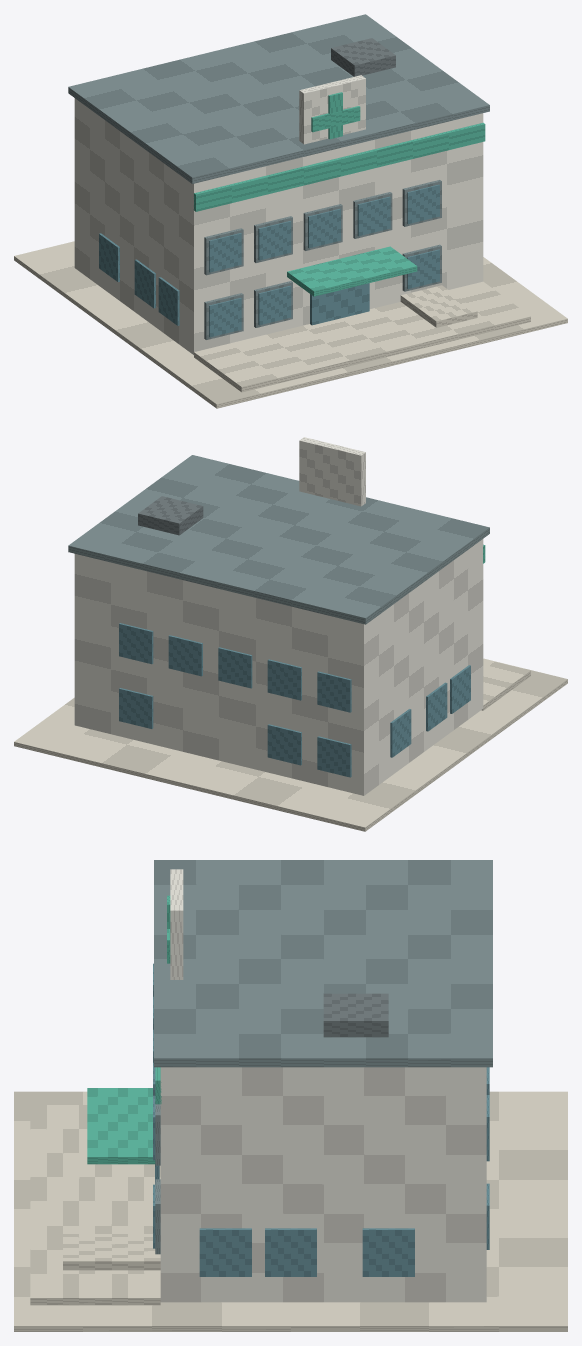
The model's file is clinic.glb.
3 renders of one model, top to bottom at view 1: azimuth 30°, elevation 25°; view 2: azimuth 150°, elevation 25°; view 3: azimuth 270°, elevation 25°, orthographic. The views are drawn at different scales.
Visible parts, largest first — view 1: Public building, Flat roof coping, Entry plaza, Service forecourt, Window glass (×8), Facade color band, Window frame (×7), Entry canopy, Medical sign board, Side window (×3), Accessible entry ramp, Air conditioning (+2 smaller); view 2: Public building, Flat roof coping, Service forecourt, Rear window (×8), Medical sign board, Side window (×3), Air conditioning, Entry plaza; view 3: Public building, Flat roof coping, Service forecourt, Entry plaza, Side window (×3), Entry canopy, Accessible entry ramp, Air conditioning, Medical sign board.
Boxes of the visible parts, x1=… form: Public building: x1=74, y1=98, x2=483, y2=354; Flat roof coping: x1=68, y1=14, x2=489, y2=183; Entry plaza: x1=194, y1=281, x2=530, y2=392; Service forecourt: x1=14, y1=241, x2=567, y2=408; Window glass (×8): x1=209, y1=184, x2=439, y2=337; Facade color band: x1=193, y1=122, x2=485, y2=211; Window frame (×7): x1=204, y1=180, x2=441, y2=339; Entry canopy: x1=287, y1=246, x2=417, y2=296; Medical sign board: x1=299, y1=75, x2=365, y2=144; Side window (×3): x1=99, y1=233, x2=179, y2=325; Accessible entry ramp: x1=400, y1=285, x2=477, y2=327; Air conditioning: x1=331, y1=38, x2=395, y2=76; Public building: x1=74, y1=539, x2=483, y2=795; Flat roof coping: x1=68, y1=455, x2=489, y2=624; Service forecourt: x1=14, y1=658, x2=567, y2=831; Rear window (×8): x1=119, y1=623, x2=351, y2=777; Medical sign board: x1=299, y1=437, x2=365, y2=506; Side window (×3): x1=390, y1=665, x2=470, y2=757; Air conditioning: x1=138, y1=496, x2=203, y2=535; Entry plaza: x1=481, y1=659, x2=530, y2=710; Public building: x1=160, y1=1067, x2=486, y2=1302; Flat roof coping: x1=154, y1=860, x2=492, y2=1067; Service forecourt: x1=14, y1=1091, x2=567, y2=1331; Entry plaza: x1=30, y1=1105, x2=160, y2=1305; Side window (×3): x1=199, y1=1228, x2=414, y2=1276; Entry canopy: x1=87, y1=1088, x2=155, y2=1164; Accessible entry ramp: x1=63, y1=1234, x2=160, y2=1270; Air conditioning: x1=323, y1=993, x2=388, y2=1037; Medical sign board: x1=170, y1=869, x2=183, y2=979.
Bounding box in the file's own units: 17 × 11 × 17.
Materials: 6 (6 with a texture image).
